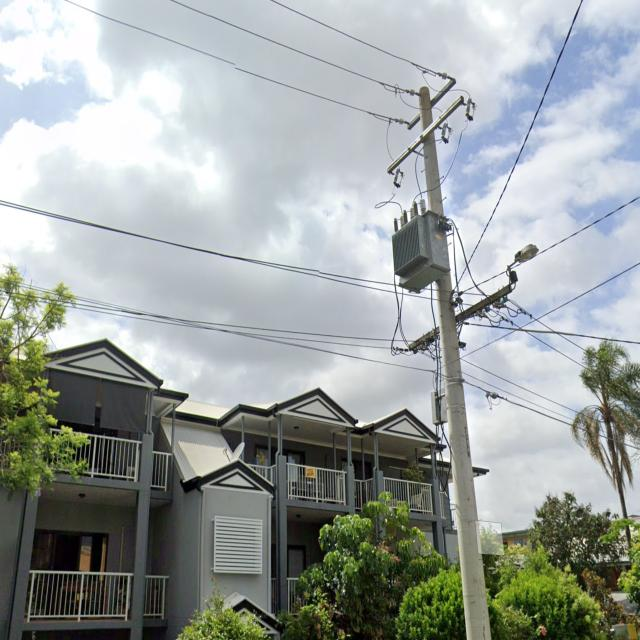HV-transmission: (386, 72, 476, 188)
LV link: (494, 300, 532, 320), (476, 310, 514, 328)
concrete-pole: (417, 84, 492, 640)
crossarm: (410, 284, 512, 353), (386, 94, 464, 173), (406, 77, 456, 131)
streetlight: (506, 245, 539, 286)
transformer: (392, 198, 449, 294)
